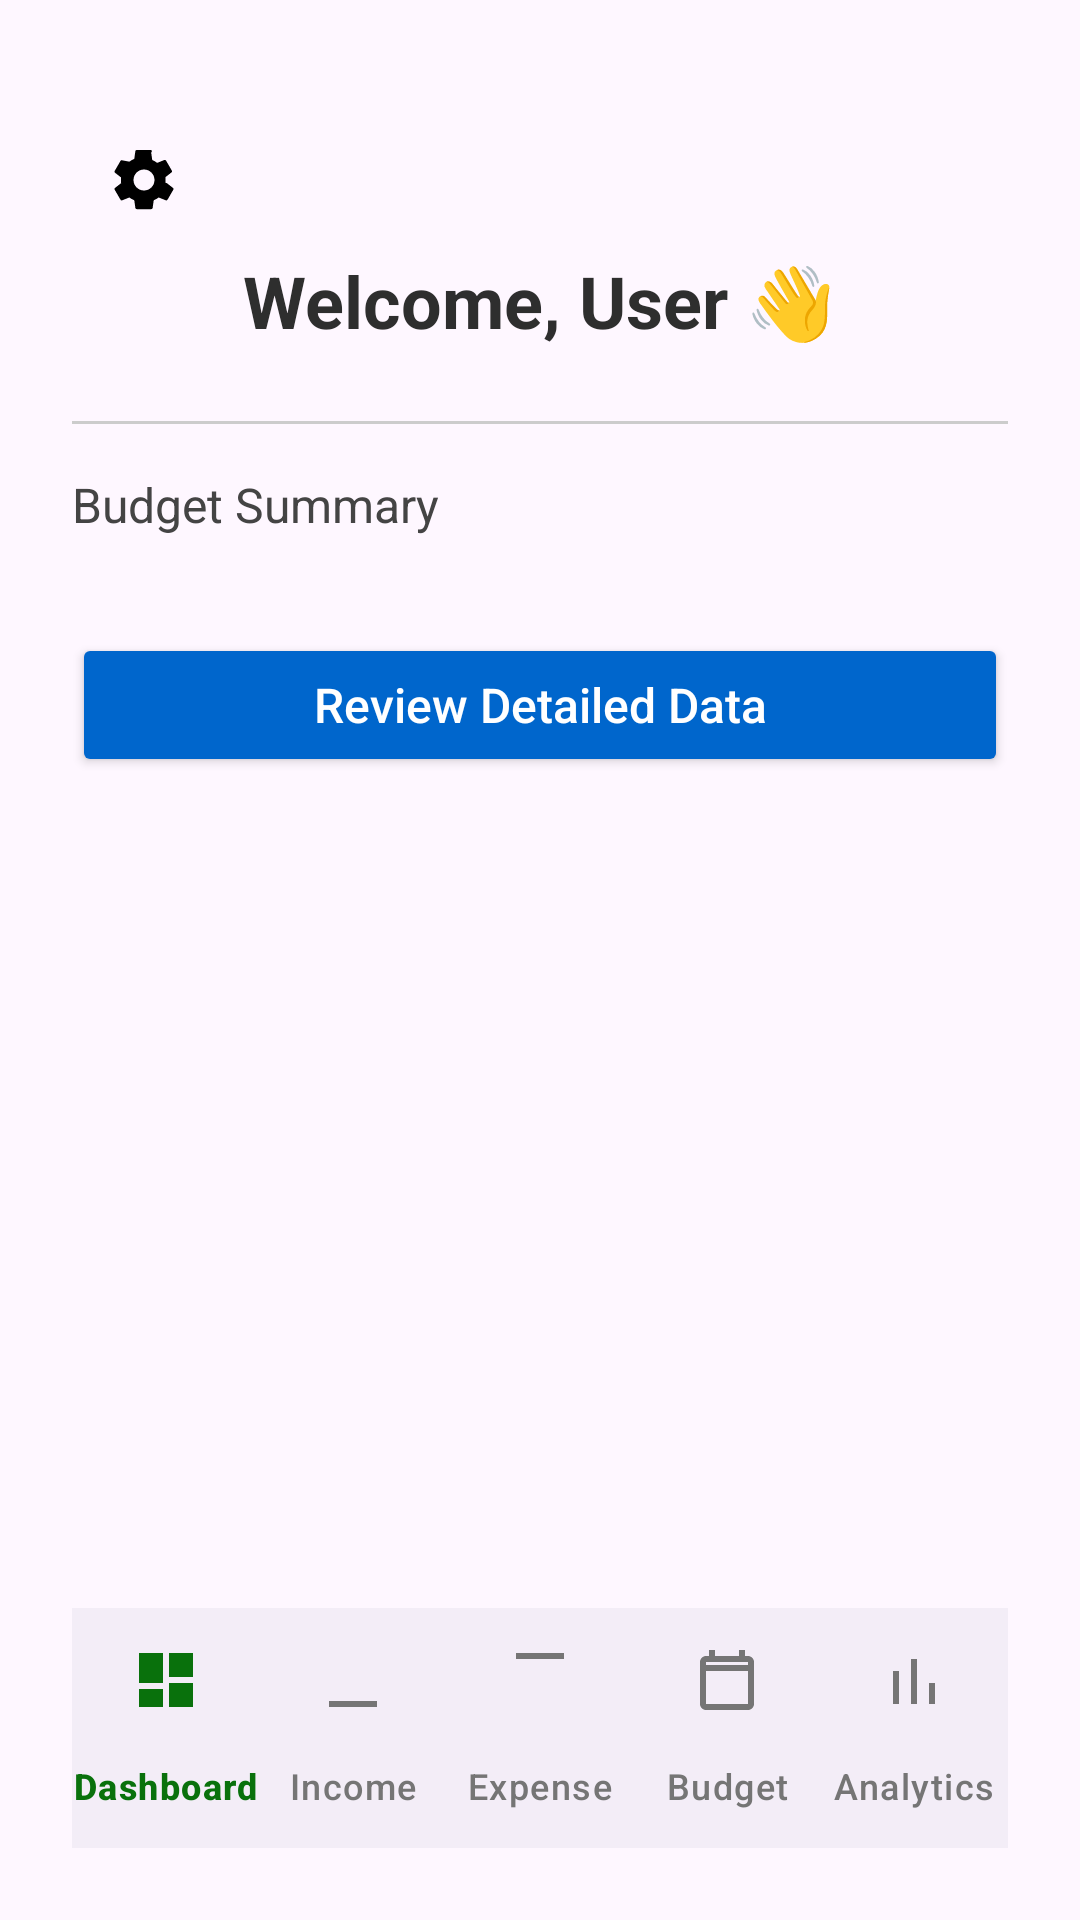

Named icons in this screenshot (1080*1920) and their bounding boxes, (x1, y1, x2, y2):
Setting: (114, 150, 174, 210)
